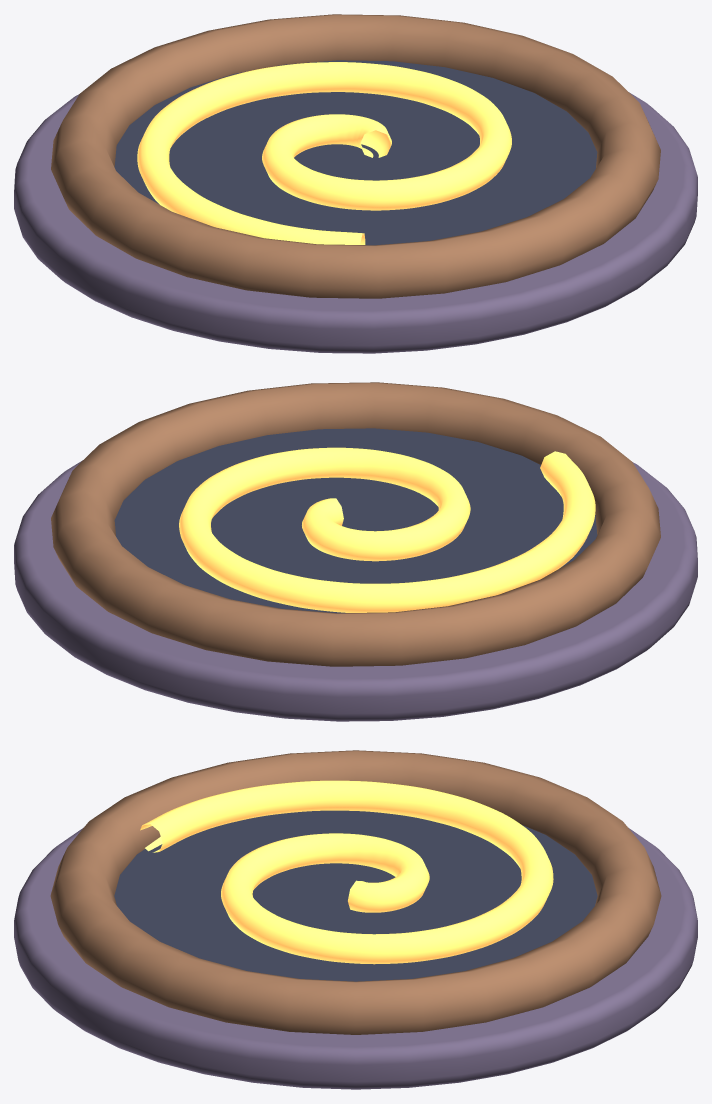
File: inferno_portal.glb
3 renders of one model, top to bottom at view 1: azimuth 30°, elevation 25°; view 2: azimuth 150°, elevation 25°; view 3: azimuth 270°, elevation 25°, orthographic.
Parts seen in each view (by area): view 1: Portal copper coil, Portal stone well, Portal dark pool, Amber portal spiral; view 2: Portal copper coil, Portal stone well, Portal dark pool, Amber portal spiral; view 3: Portal copper coil, Portal stone well, Portal dark pool, Amber portal spiral.
Boxes of the visible parts, x1=… form: Portal copper coil: x1=51, y1=14, x2=660, y2=298; Portal stone well: x1=14, y1=92, x2=697, y2=353; Portal dark pool: x1=114, y1=60, x2=597, y2=245; Amber portal spiral: x1=137, y1=62, x2=511, y2=244; Portal copper coil: x1=51, y1=382, x2=660, y2=666; Portal stone well: x1=14, y1=460, x2=697, y2=721; Portal dark pool: x1=114, y1=428, x2=597, y2=613; Amber portal spiral: x1=179, y1=447, x2=595, y2=612; Portal copper coil: x1=50, y1=750, x2=661, y2=1034; Portal stone well: x1=14, y1=827, x2=697, y2=1089; Portal dark pool: x1=114, y1=810, x2=597, y2=981; Amber portal spiral: x1=140, y1=780, x2=553, y2=964.
Bounding box in the file's own units: 1.5 × 0.2 × 1.5.
